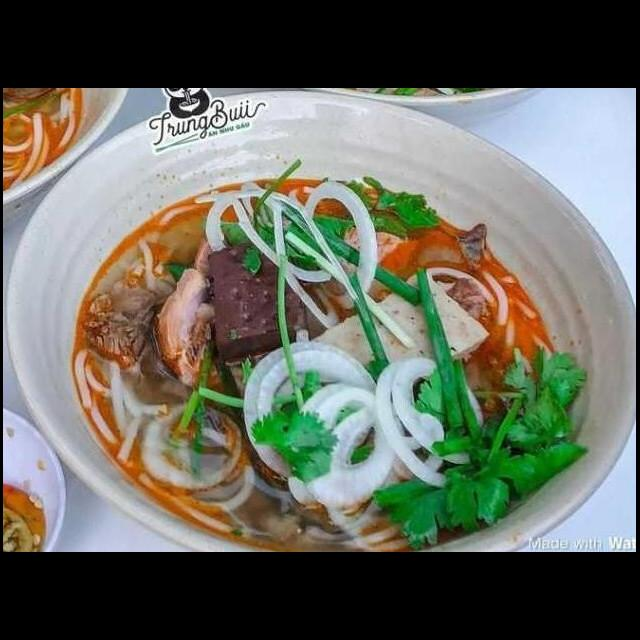bun: (26, 135, 288, 277), (236, 420, 412, 498)
bun bo: (18, 103, 616, 516)
thit bo: (248, 143, 416, 219)
